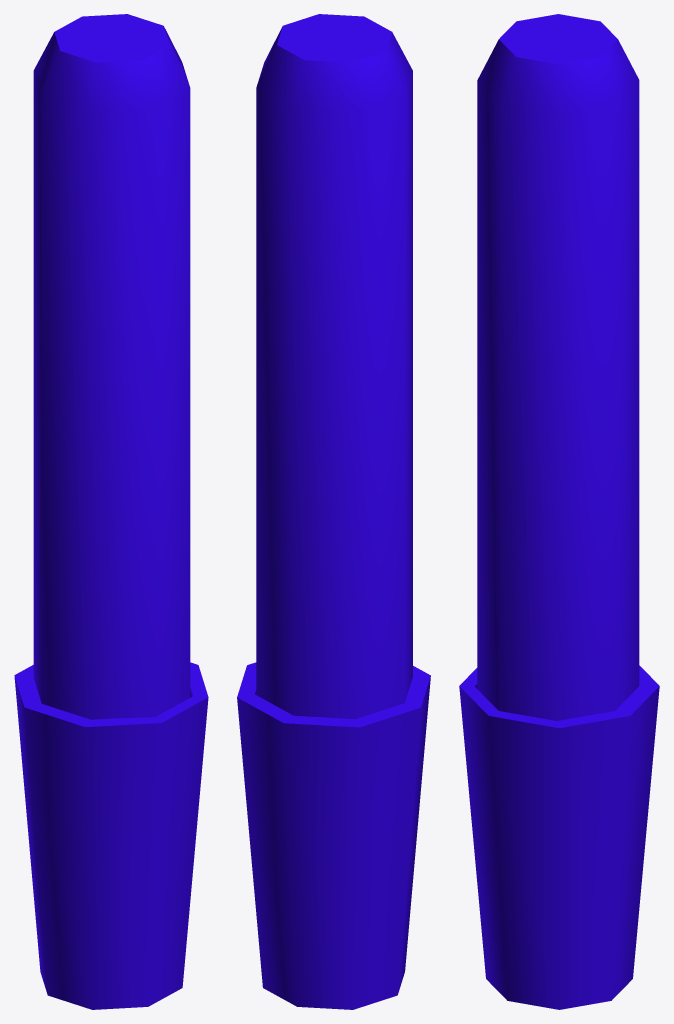
Rendered from office_pack_markerPen_1_meshCollider.fbx.
The picture shows the model from 3 angles, left to right: view 1: azimuth 30°, elevation 25°; view 2: azimuth 150°, elevation 25°; view 3: azimuth 270°, elevation 25°; orthographic projection.
Parts seen in each view (by area): view 1: office_pack_markerPen_1_meshCollider, office_pack_markerPen_cap_1_meshCollider; view 2: office_pack_markerPen_1_meshCollider, office_pack_markerPen_cap_1_meshCollider; view 3: office_pack_markerPen_1_meshCollider, office_pack_markerPen_cap_1_meshCollider.
Part boxes in pixels (<box>): office_pack_markerPen_1_meshCollider: <box>33,14,190,719</box>; office_pack_markerPen_cap_1_meshCollider: <box>14,662,208,1009</box>; office_pack_markerPen_1_meshCollider: <box>256,14,412,718</box>; office_pack_markerPen_cap_1_meshCollider: <box>237,662,430,1009</box>; office_pack_markerPen_1_meshCollider: <box>477,14,639,720</box>; office_pack_markerPen_cap_1_meshCollider: <box>459,665,659,1009</box>.
Size of the model in its own units: 3.76 by 19.47 by 3.76.
